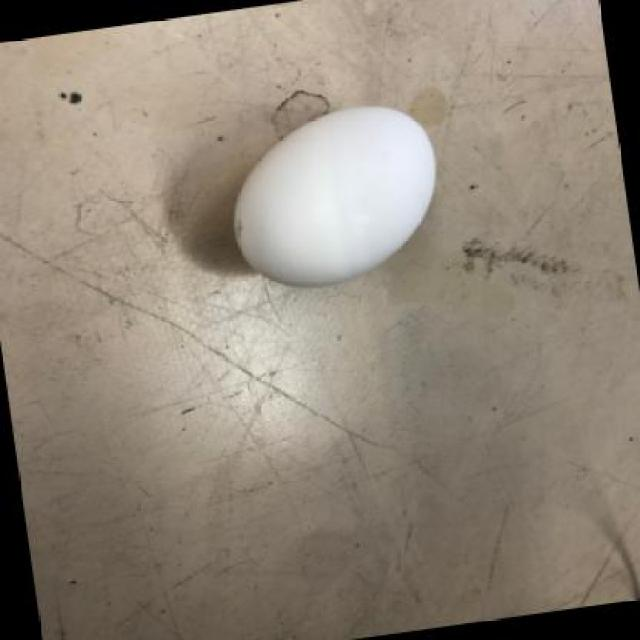egg: (229, 98, 444, 290)
